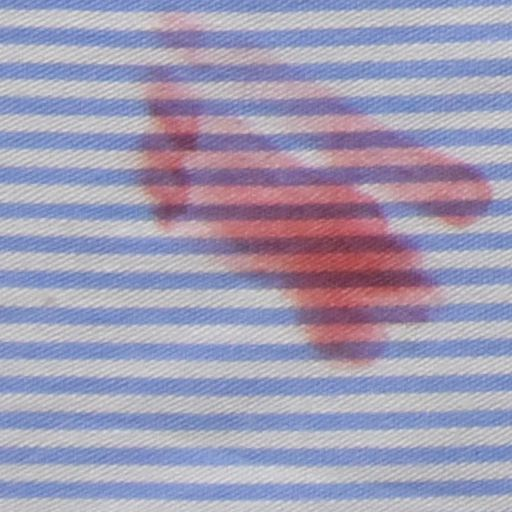defect: (139, 76, 494, 378)
